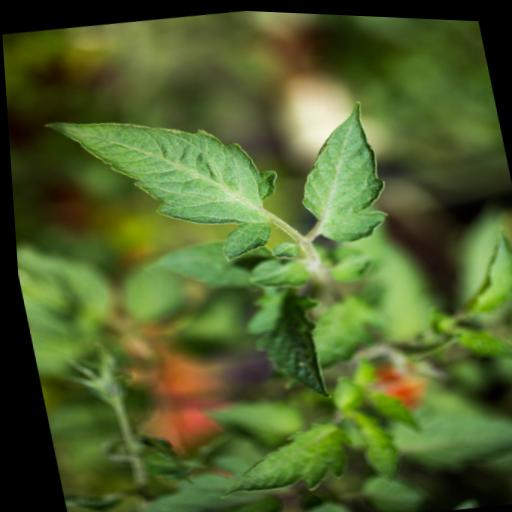Healthy: (31, 91, 289, 283), (276, 74, 406, 262)
